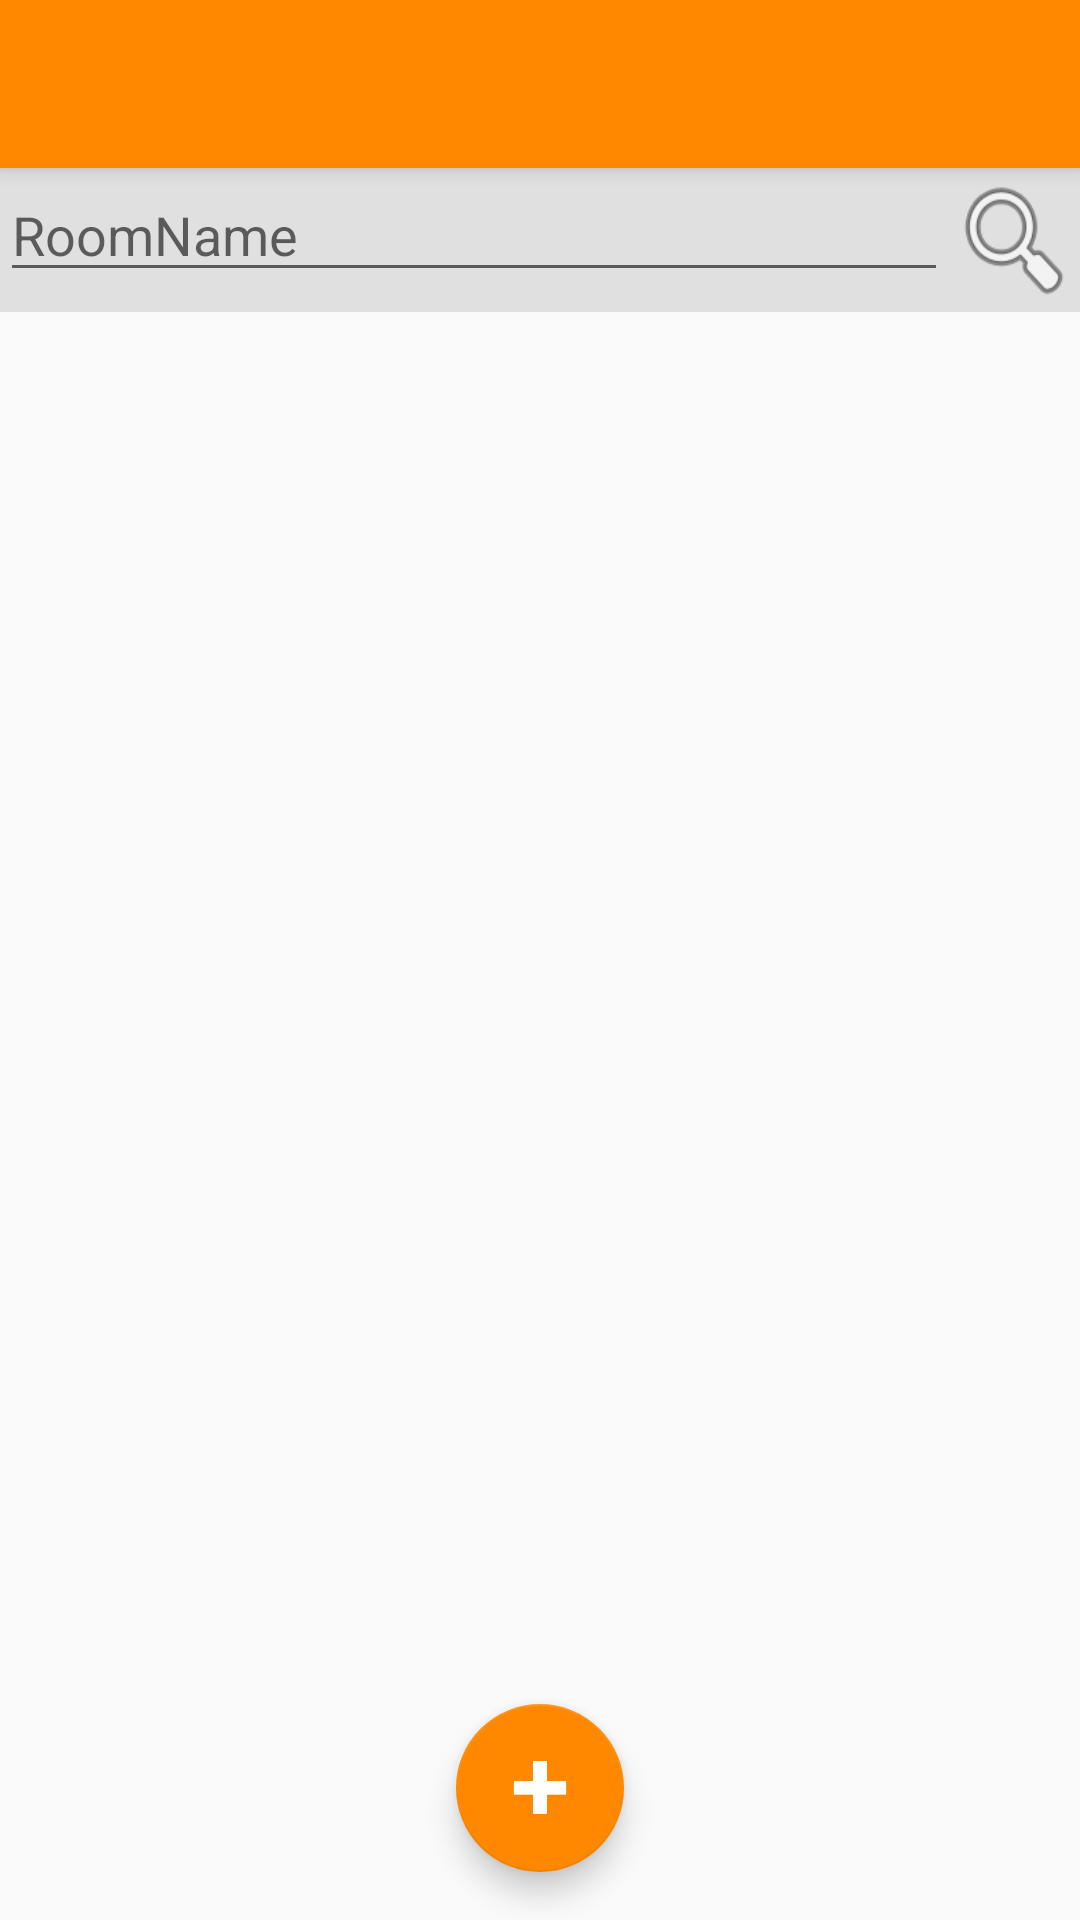

Icon bounding boxes for this 1080 × 1920 phone screenshot, format {"x1": x1, "y1": y1, "x2": x2, "y2": y2}:
plus: {"x1": 456, "y1": 1704, "x2": 624, "y2": 1872}
search: {"x1": 965, "y1": 187, "x2": 1063, "y2": 294}
